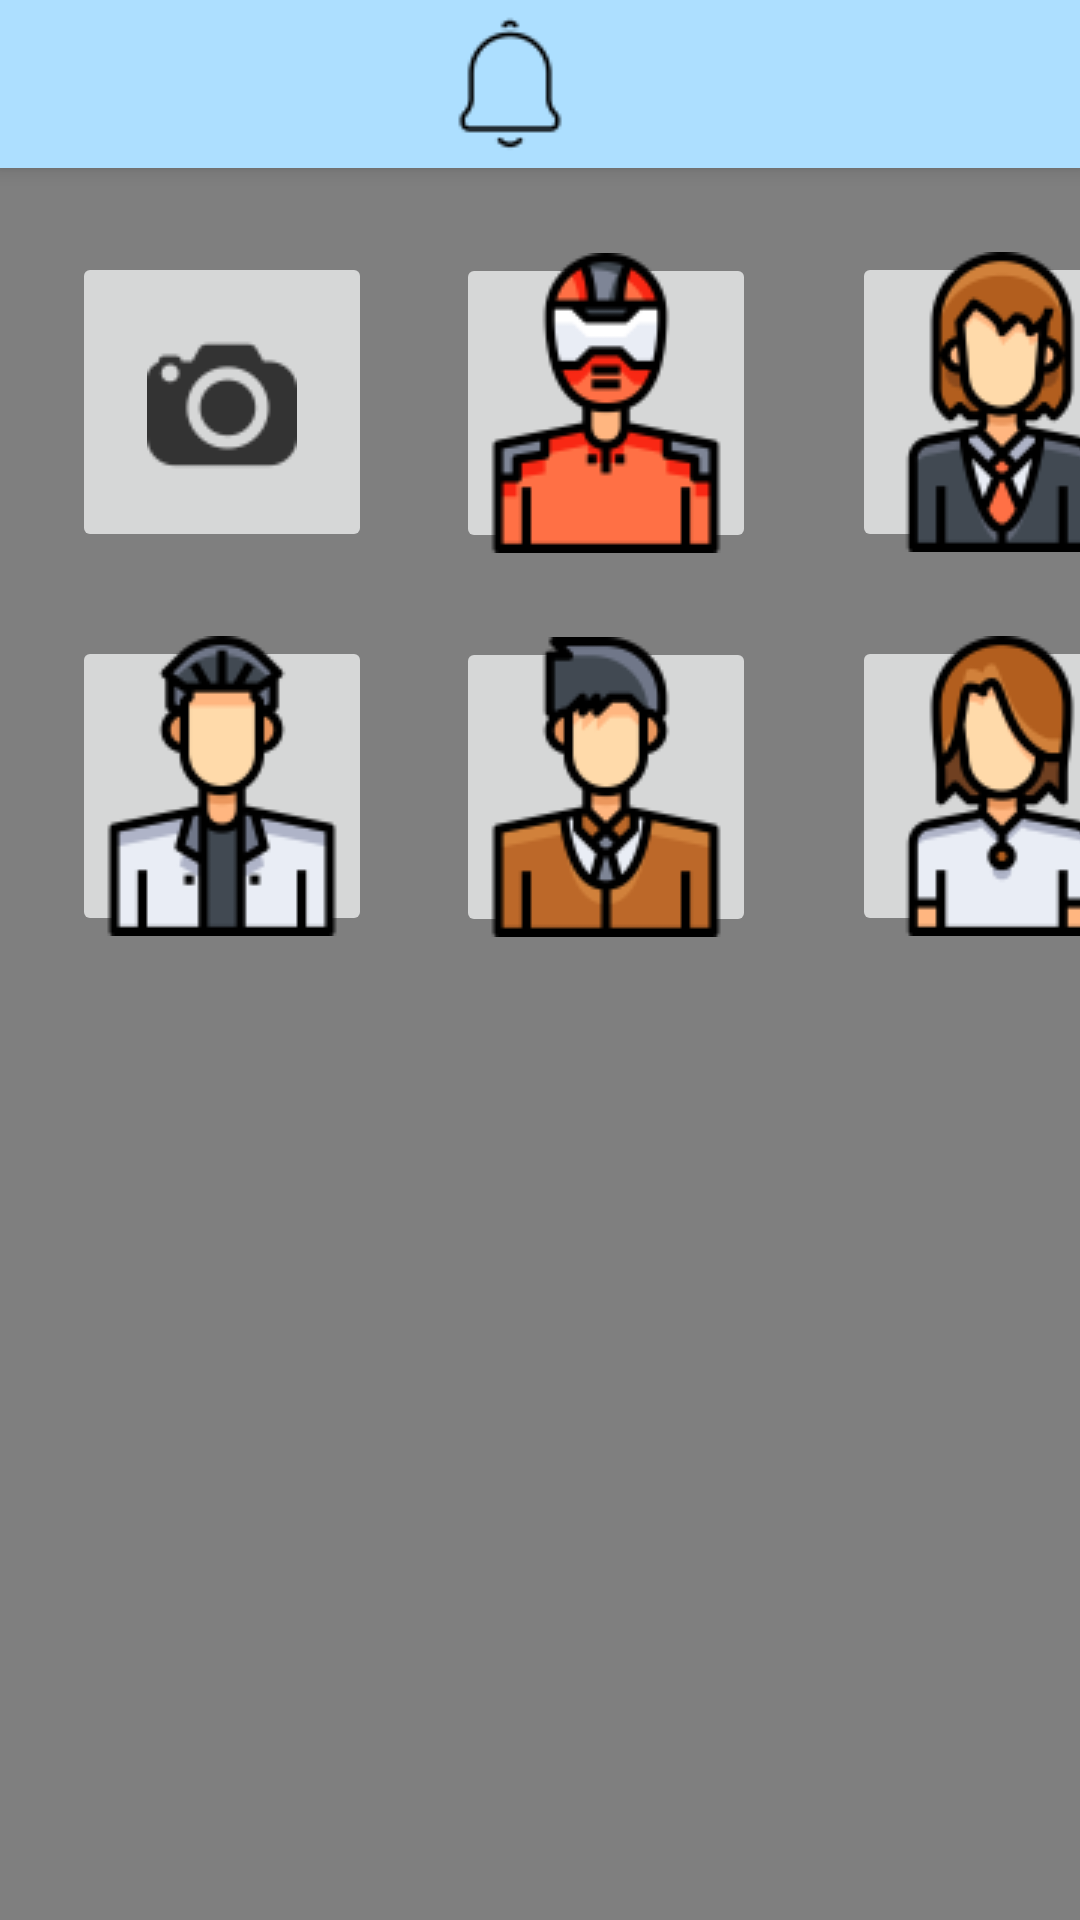

Screen size 1080w x 1920h. Icon name, then its box in pixels as box=[x1, y1, x2, y2]:
camera: box=[84, 270, 360, 534]
notification: box=[458, 18, 562, 148]
